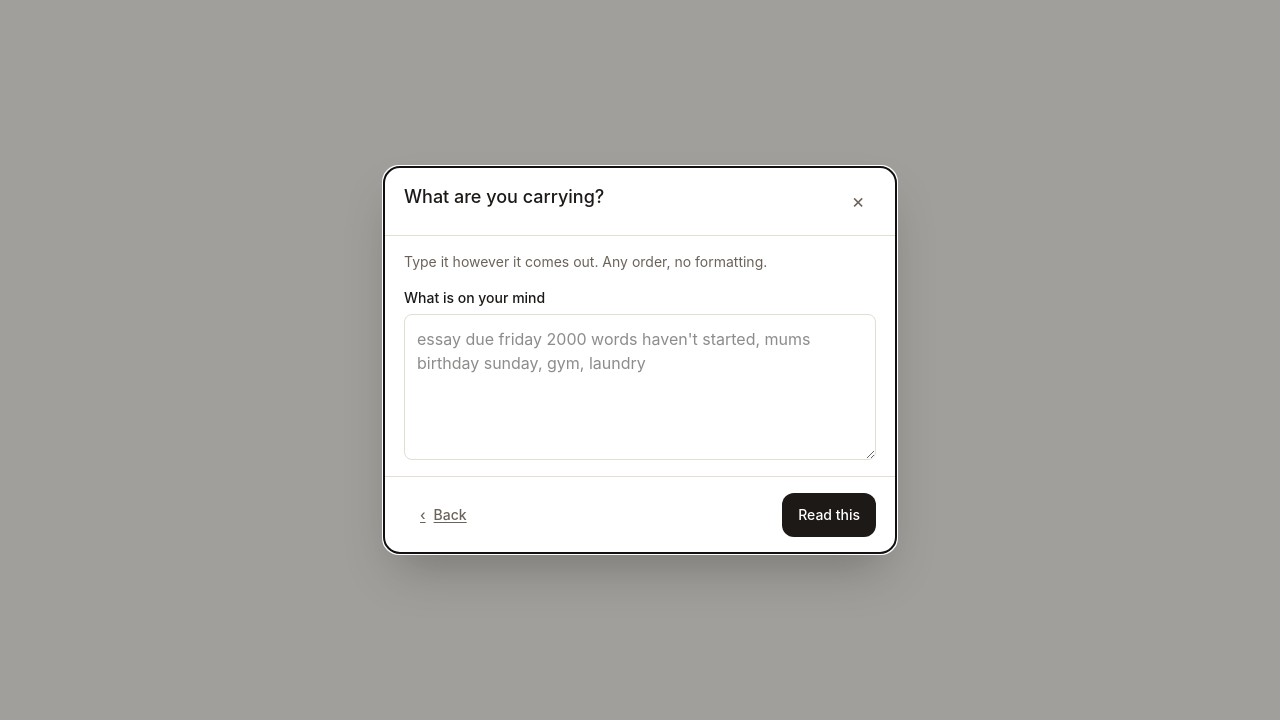
Scenario: the accept, held shut until the week knows when › will not add an item that has no day yet
The width and height of the screenshot is (1280, 720).
Type "read chapter 3" into the text box labelled "What is on your mind".
click(640, 387); type("read chapter 3")  # box [404,314,876,460]
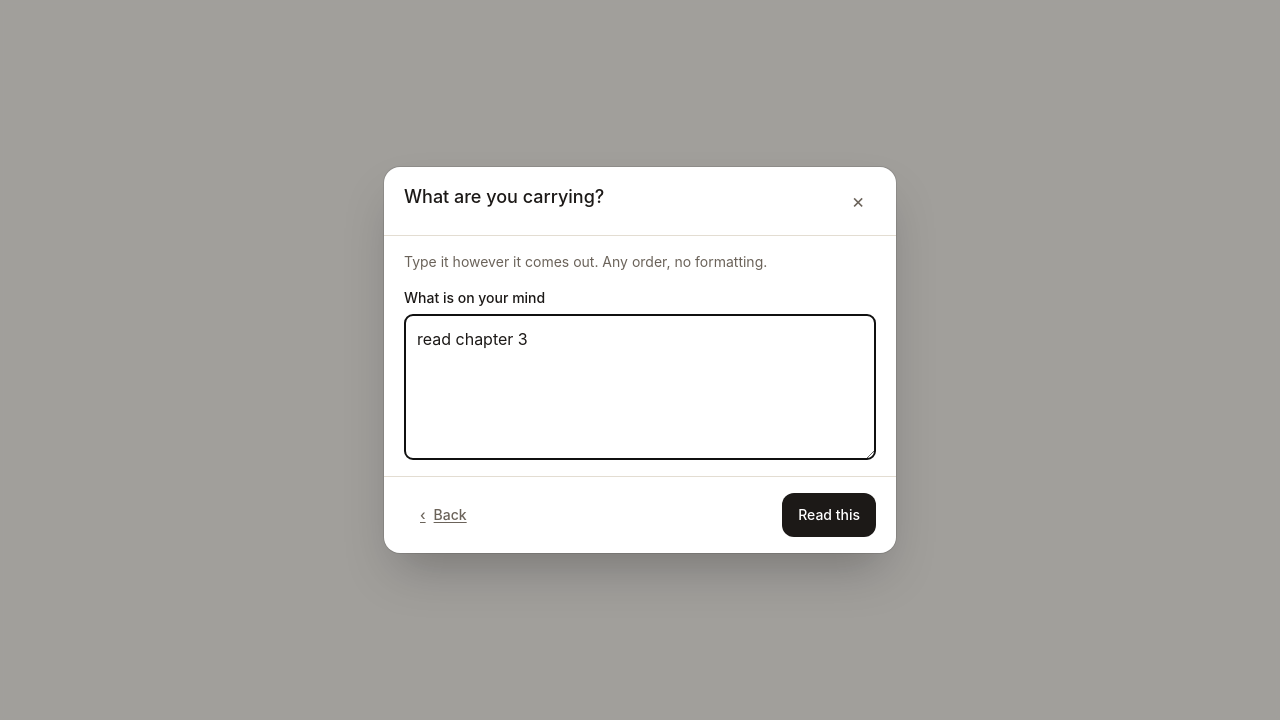
Click the button "Read this".
click(829, 515)  # box [782,493,876,537]
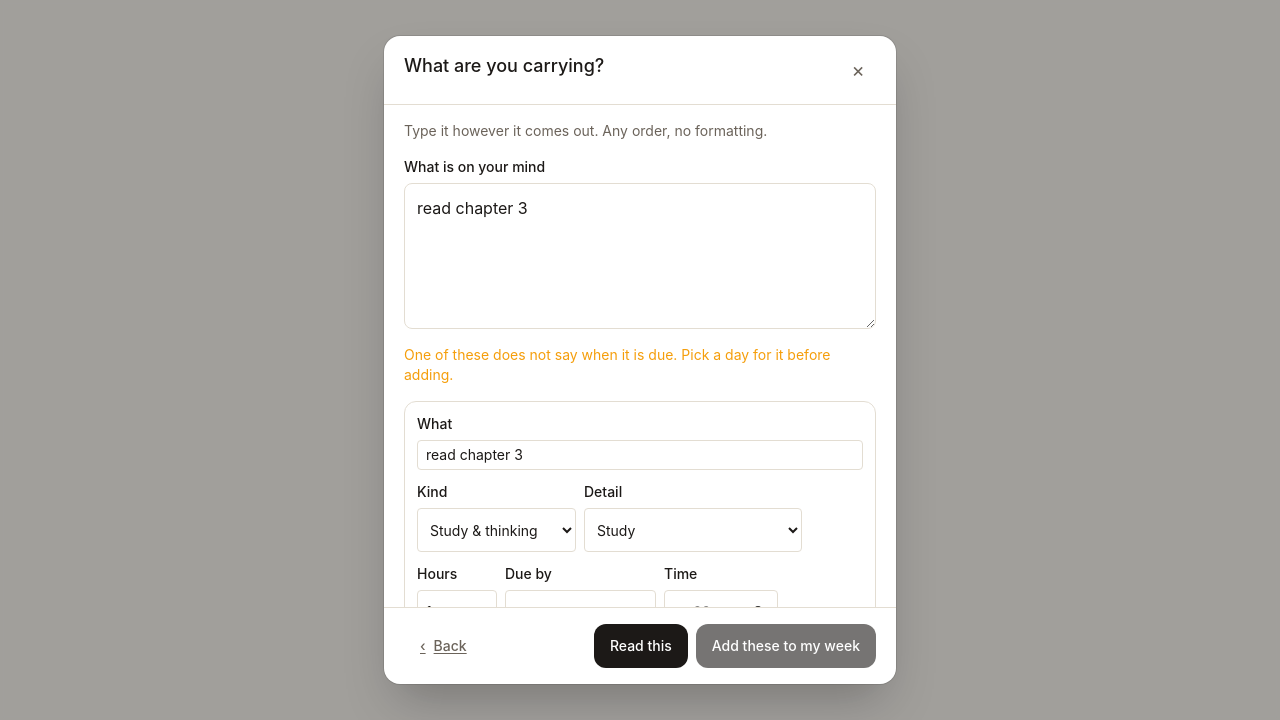
Expected: the button "Add these to my week" is disabled, [696,624,876,668]
